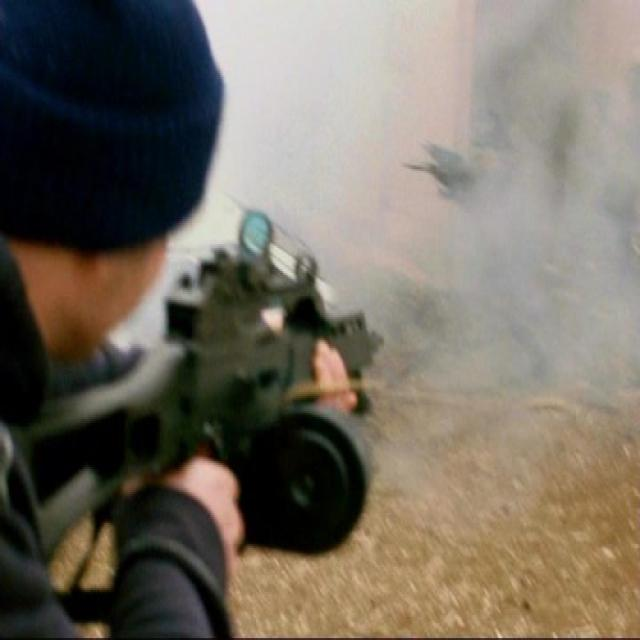rifle: (1, 201, 388, 578)
